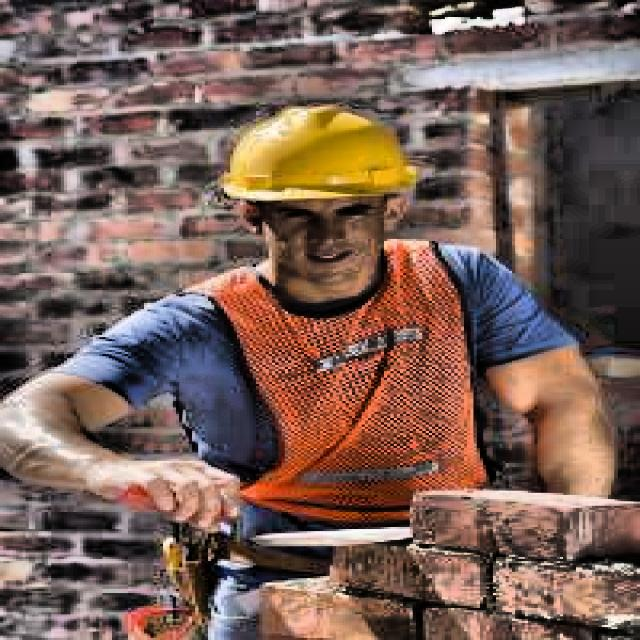helmet: (218, 102, 435, 288)
